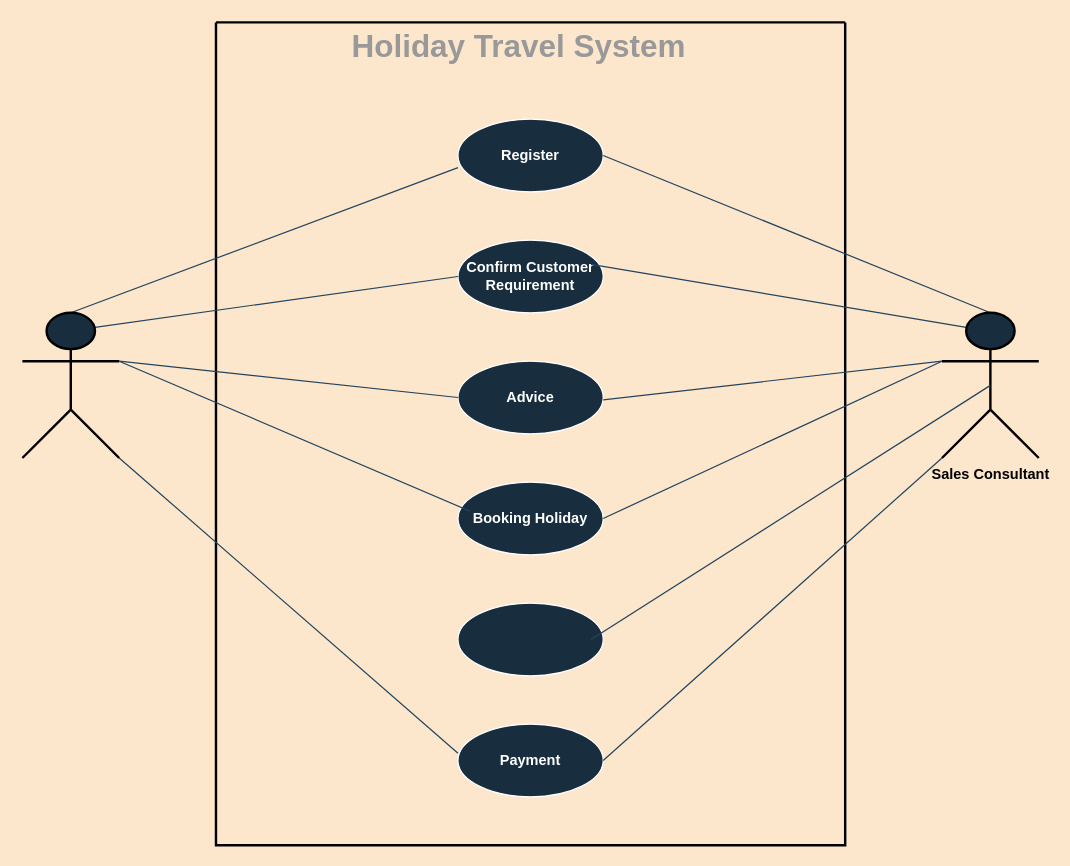
Some shapes in this 1070 by 866 pixel diagram are drawn without their labels. The shapes that lost their labels are listed below. From the top down, each one's centre as x and y in pixels, then its label:
At point 70,385: "Customer".
At point 530,639: "Accept Customer Itinerary".
